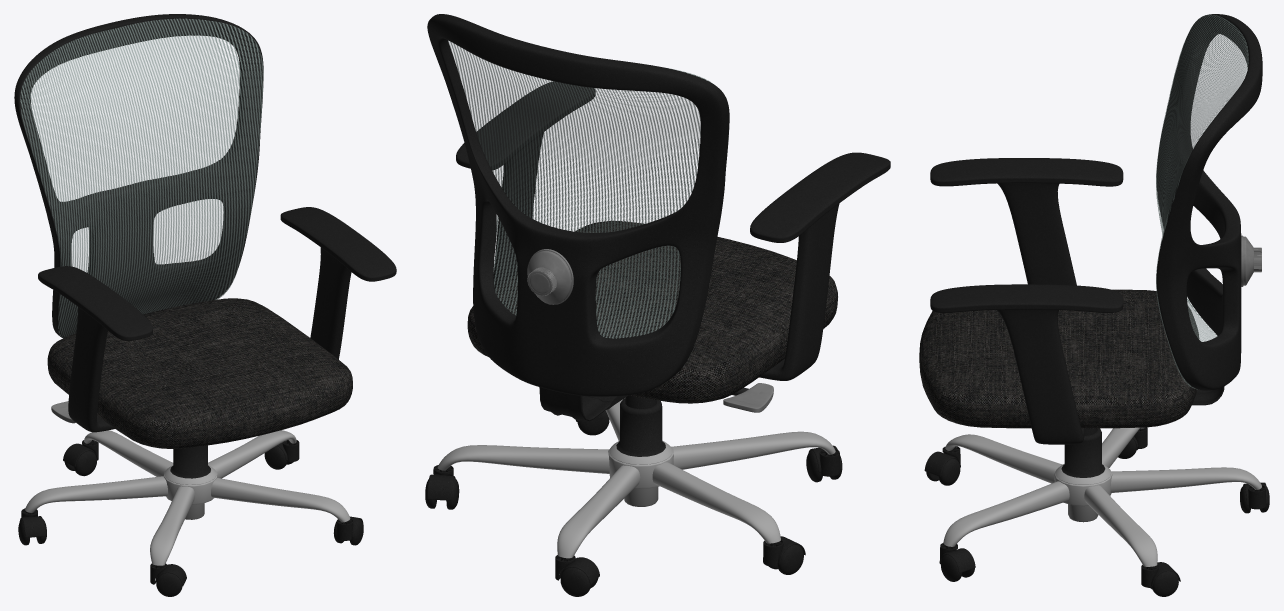
The model's file is Office_Chair_7.glb.
3 views of the same model, side by side, from view 1: azimuth 30°, elevation 25°; view 2: azimuth 150°, elevation 25°; view 3: azimuth 270°, elevation 25° (orthographic). The views are drawn at different scales.
Visible parts, largest first — view 1: BackRest_NET.001, Seat.001, Backrest_BAse.001, HandRest.001, wheelbase.005, wheelbase.002, wheelbase.001, wheelbase.009, wheelbase.008, seat_pipe.003, Tyre_part.009, Tyre_part.006 (+4 smaller); view 2: Backrest_BAse.001, BackRest_NET.001, Seat.001, HandRest.001, wheelbase.008, wheelbase.001, wheelbase.005, wheelbase.009, seat_pipe.003, BackRest_support_down.001, Tyre_part.009, Backpart.002 (+6 smaller); view 3: Seat.001, Backrest_BAse.001, HandRest.001, BackRest_NET.001, wheelbase.009, wheelbase.002, wheelbase.008, wheelbase.001, seat_pipe.003, Tyre_part.006, Tyre_part.007, Tyre_part.008 (+5 smaller).
Boxes of the visible parts, x1=… form: BackRest_NET.001: x1=20, y1=18, x2=263, y2=338; Seat.001: x1=47, y1=298, x2=352, y2=448; Backrest_BAse.001: x1=14, y1=14, x2=263, y2=337; HandRest.001: x1=38, y1=207, x2=396, y2=432; wheelbase.005: x1=25, y1=476, x2=167, y2=512; wheelbase.002: x1=211, y1=478, x2=350, y2=522; wheelbase.001: x1=150, y1=486, x2=194, y2=565; wheelbase.009: x1=84, y1=430, x2=173, y2=476; wheelbase.008: x1=208, y1=430, x2=296, y2=478; seat_pipe.003: x1=170, y1=445, x2=210, y2=478; Tyre_part.009: x1=63, y1=440, x2=98, y2=476; Tyre_part.006: x1=150, y1=563, x2=186, y2=596; Backrest_BAse.001: x1=427, y1=14, x2=729, y2=396; BackRest_NET.001: x1=448, y1=40, x2=728, y2=363; Seat.001: x1=467, y1=220, x2=837, y2=403; HandRest.001: x1=456, y1=81, x2=890, y2=380; wheelbase.008: x1=437, y1=445, x2=609, y2=473; wheelbase.001: x1=671, y1=431, x2=835, y2=469; wheelbase.005: x1=652, y1=462, x2=780, y2=543; wheelbase.009: x1=557, y1=465, x2=640, y2=558; seat_pipe.003: x1=616, y1=398, x2=665, y2=456; BackRest_support_down.001: x1=539, y1=387, x2=611, y2=420; Tyre_part.009: x1=555, y1=555, x2=599, y2=596; Backpart.002: x1=527, y1=251, x2=571, y2=304; Seat.001: x1=919, y1=289, x2=1199, y2=428; Backrest_BAse.001: x1=1156, y1=14, x2=1262, y2=390; HandRest.001: x1=930, y1=158, x2=1123, y2=444; BackRest_NET.001: x1=1156, y1=14, x2=1248, y2=389; wheelbase.009: x1=1110, y1=467, x2=1261, y2=492; wheelbase.002: x1=943, y1=481, x2=1069, y2=546; wheelbase.008: x1=1084, y1=485, x2=1157, y2=566; wheelbase.001: x1=945, y1=434, x2=1062, y2=483; seat_pipe.003: x1=1061, y1=428, x2=1105, y2=477; Tyre_part.006: x1=924, y1=446, x2=960, y2=485; Tyre_part.007: x1=939, y1=543, x2=975, y2=581; Tyre_part.008: x1=1141, y1=562, x2=1180, y2=596.
Bounding box in the file's own units: 0.7452 × 1.08 × 0.7274.
10 materials, 9 textured.
